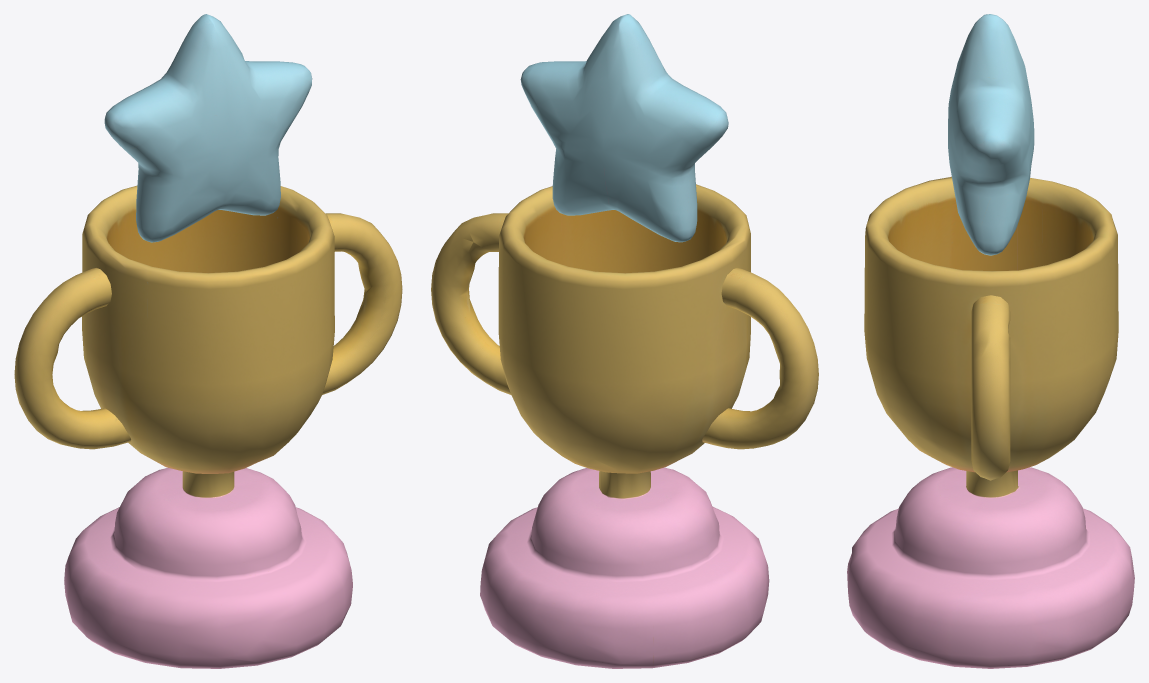
File: trophy.glb
3 views of the same model, side by side, from view 1: azimuth 30°, elevation 25°; view 2: azimuth 150°, elevation 25°; view 3: azimuth 270°, elevation 25° (orthographic).
Bounding box in the file's own units: 0.6353 × 0.9507 × 0.4141.
Materials: 1 (1 with a texture image).
